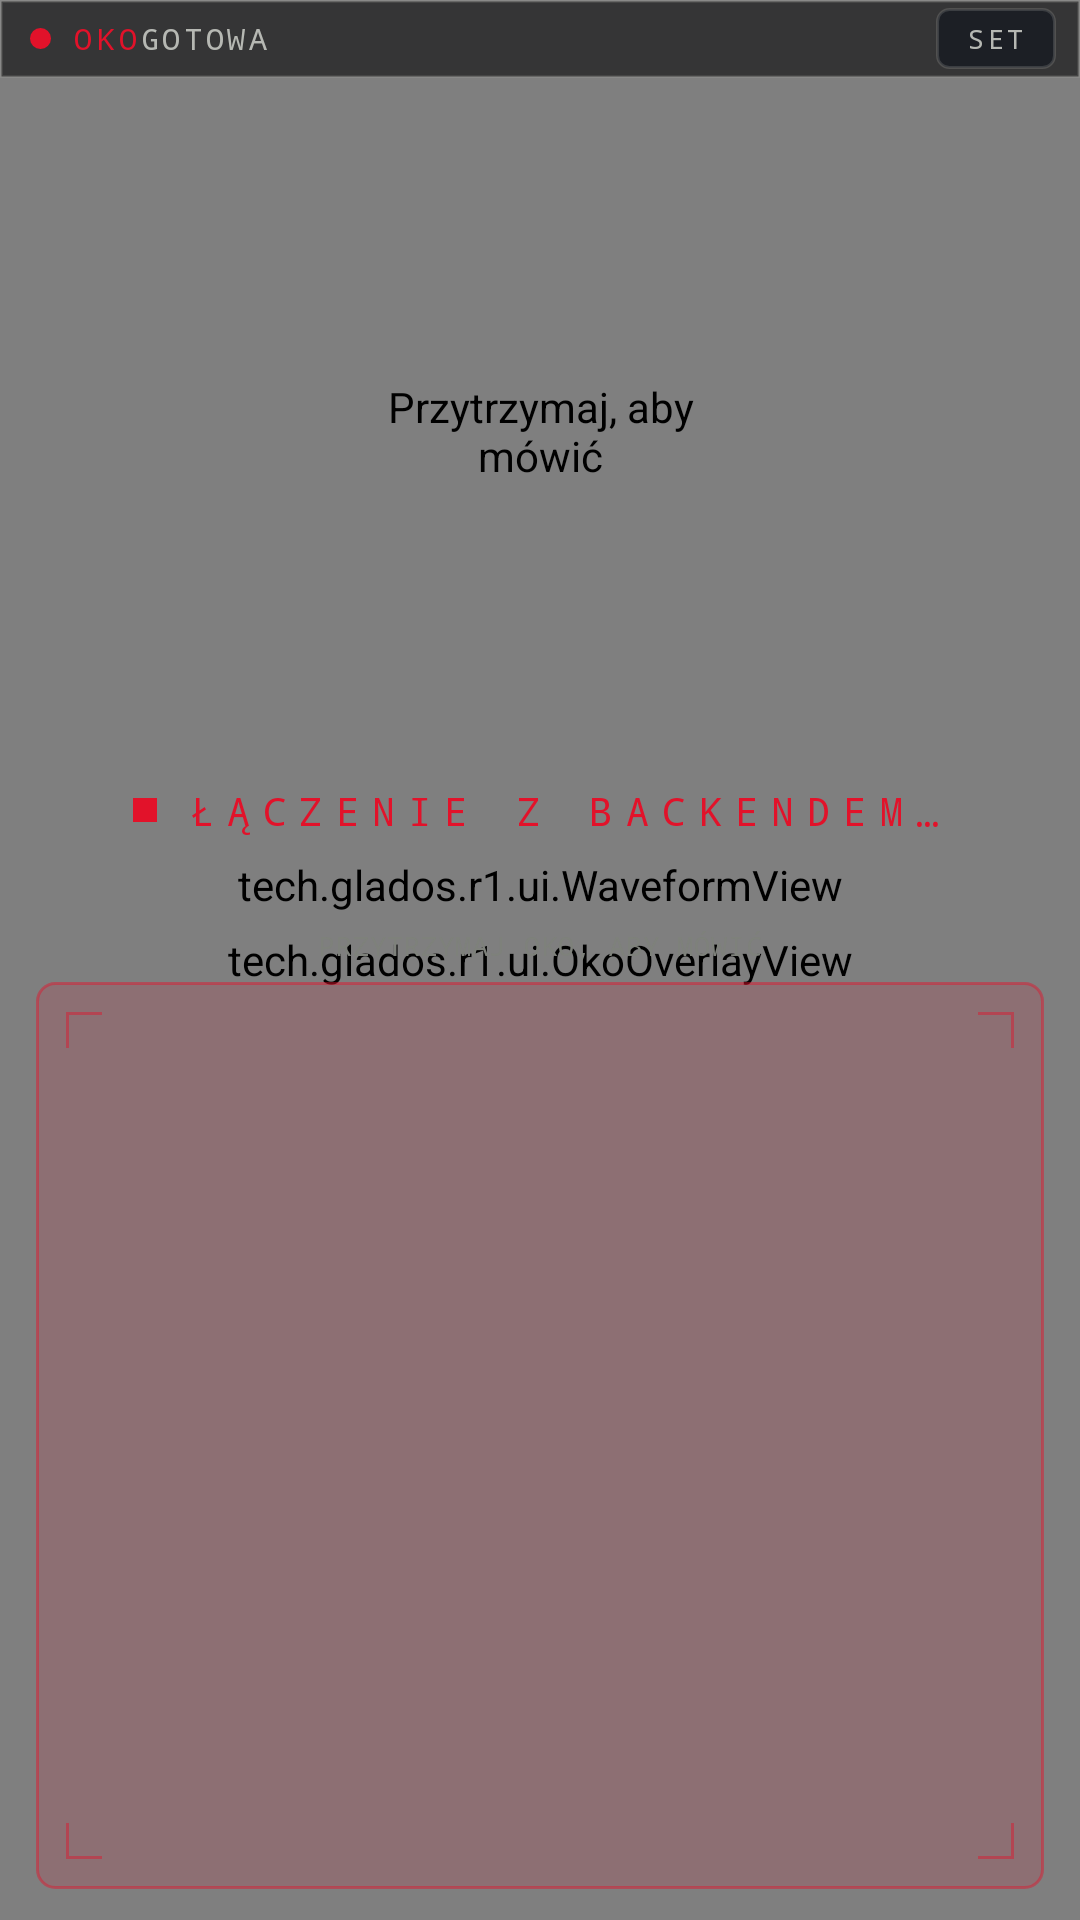

Icons on this 1080×1920 Android screen, each with its box as bbox(x1, y1, x2, y2):
bracket bl: bbox(66, 1823, 102, 1859)
bracket br: bbox(978, 1823, 1014, 1859)
bracket tl: bbox(66, 1012, 102, 1048)
bracket tr: bbox(978, 1012, 1014, 1048)
